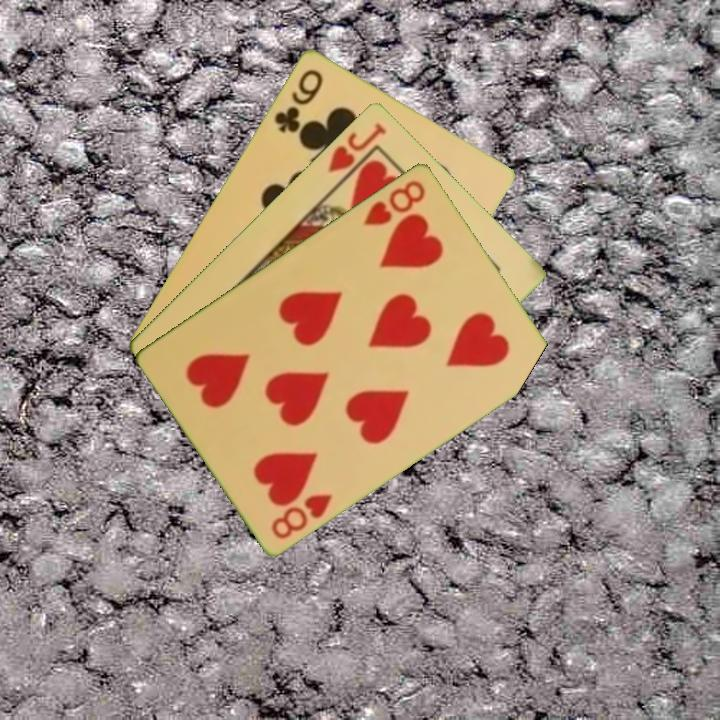8h: (267, 489, 336, 542), (359, 176, 429, 228)
9c: (270, 65, 326, 135)
Jh: (324, 118, 389, 176)
